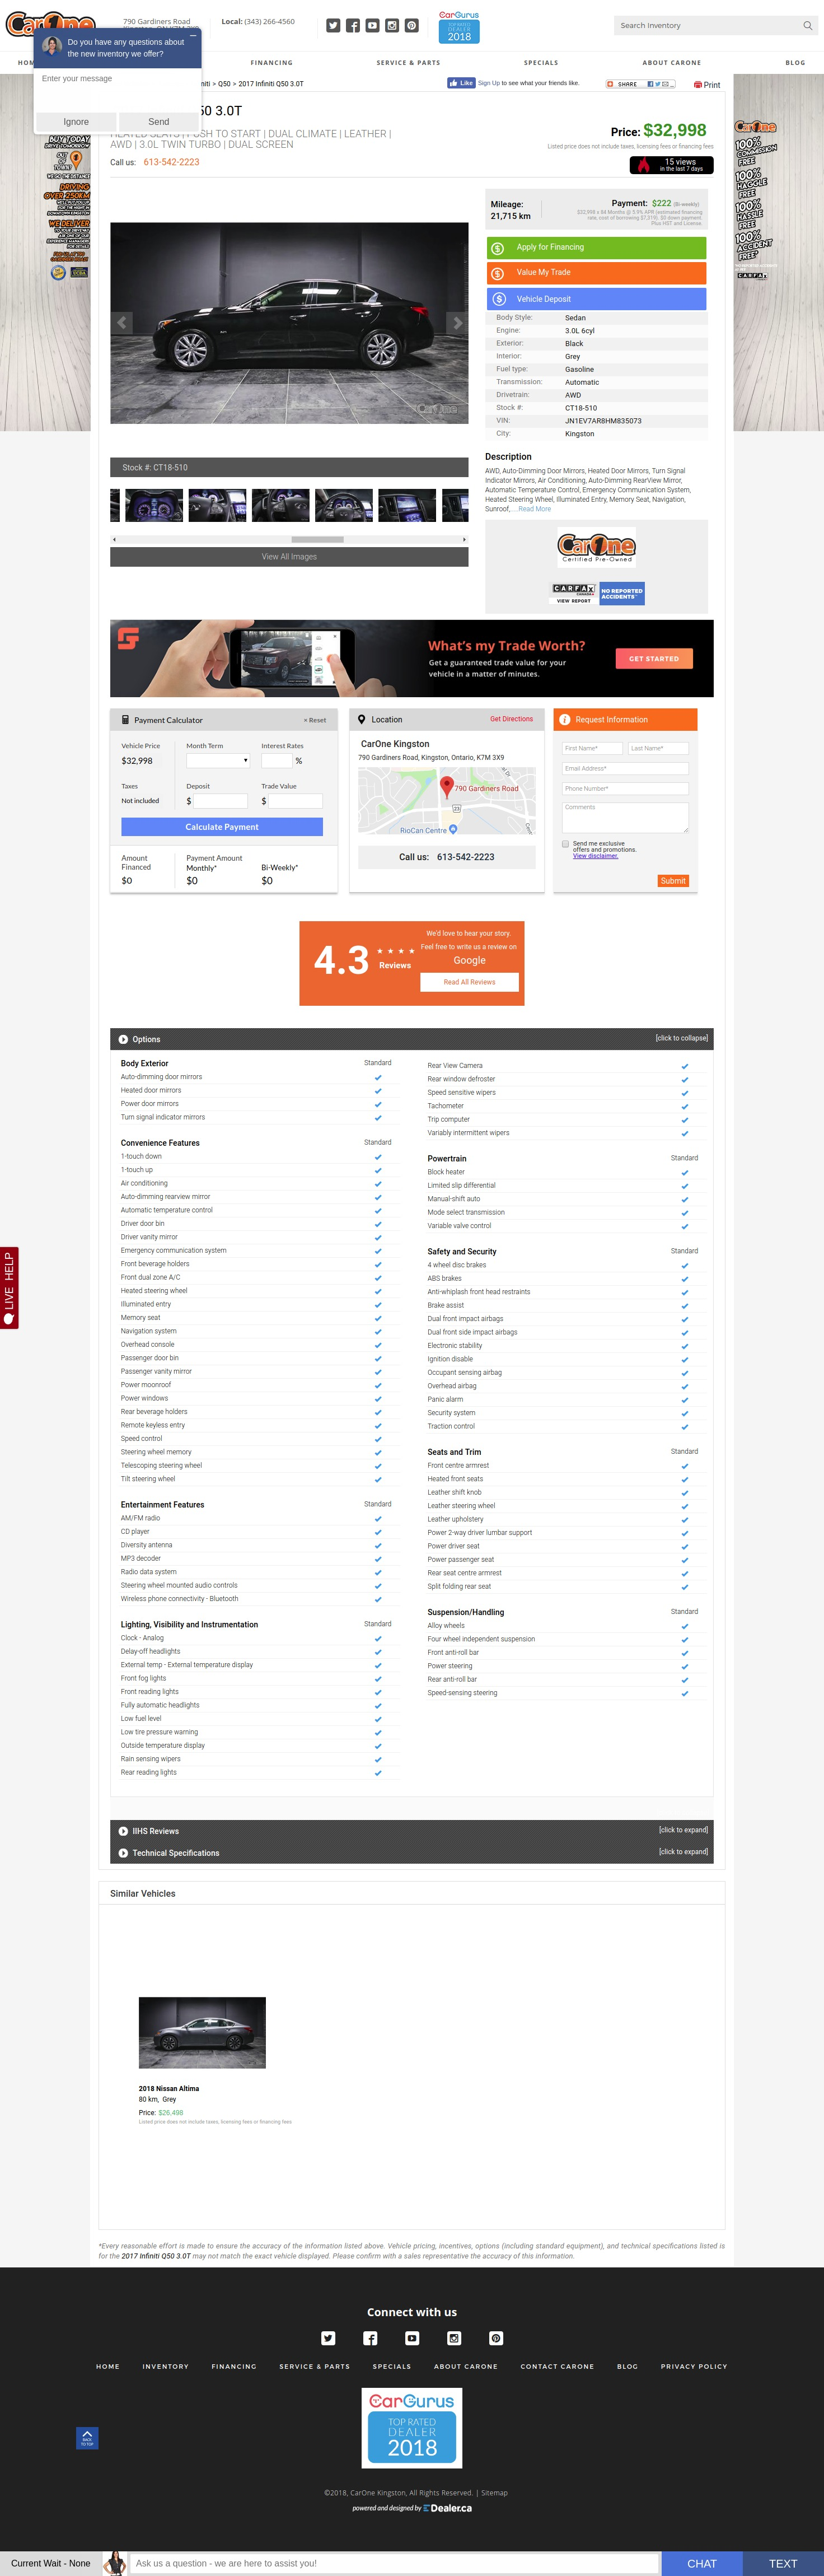car: (463, 537, 466, 542)
